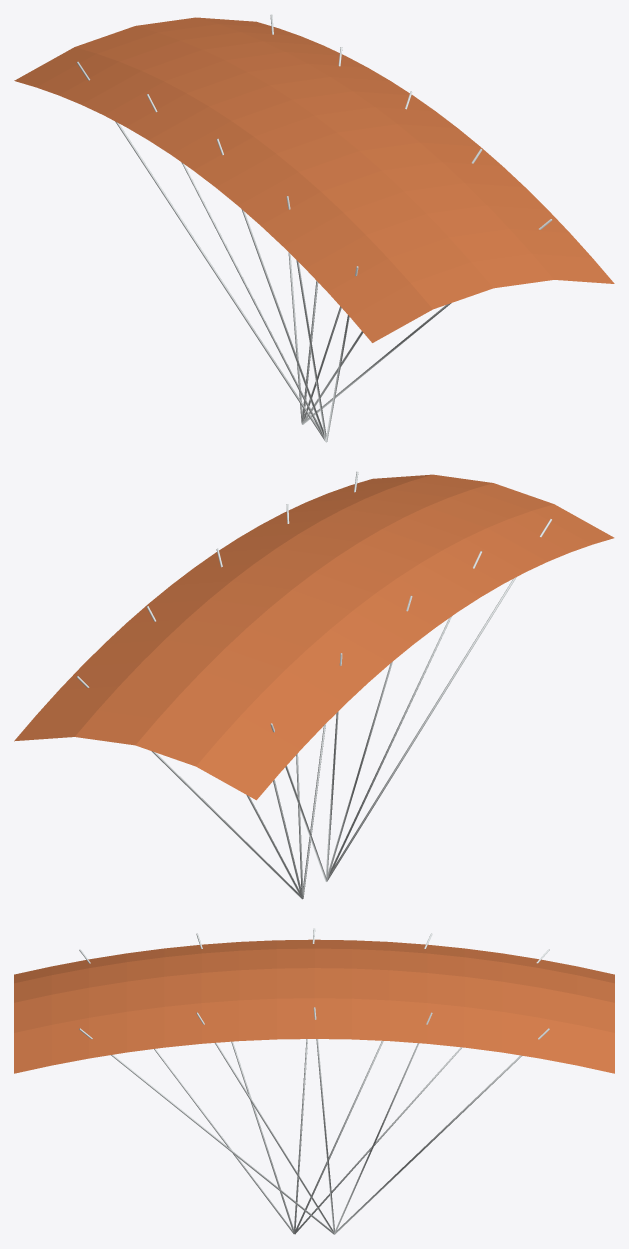
File: SM_Parachute.fbx
3 views of the same model, one above another, from view 1: azimuth 30°, elevation 25°; view 2: azimuth 150°, elevation 25°; view 3: azimuth 270°, elevation 25° (orthographic). The views are drawn at different scales.
Parts seen in each view (by area): view 1: SM_Parachute; view 2: SM_Parachute; view 3: SM_Parachute.
Boxes of the visible parts, x1,y1,x2,y2 form: SM_Parachute: (14,14,614,442); SM_Parachute: (14,471,614,899); SM_Parachute: (14,928,614,1234).
Size of the model in its own units: 200 by 512 by 251.
